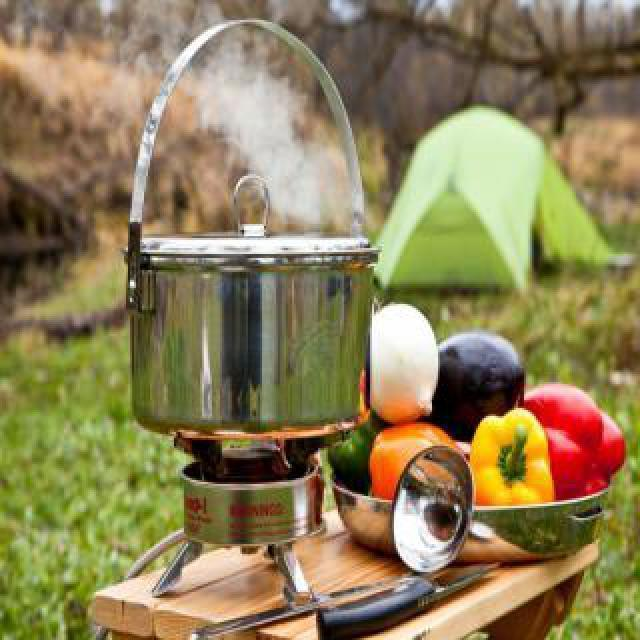Smoke: (199, 51, 347, 227)
